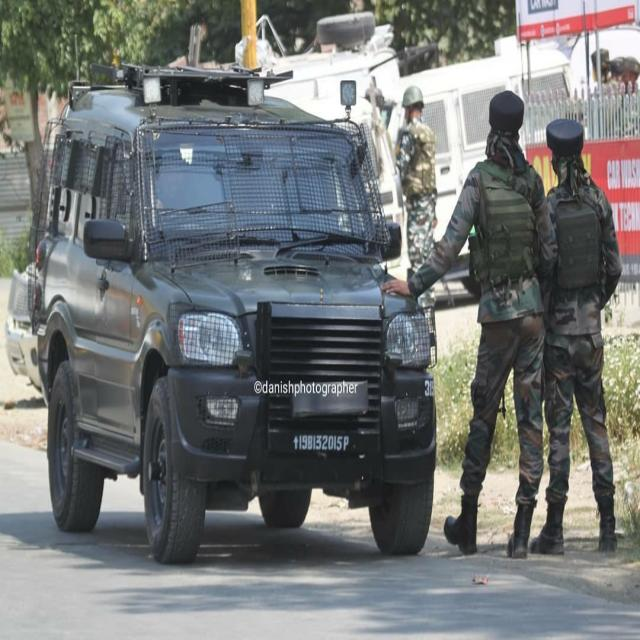military-plate: (287, 430, 360, 460)
unit number: (423, 378, 435, 400)
